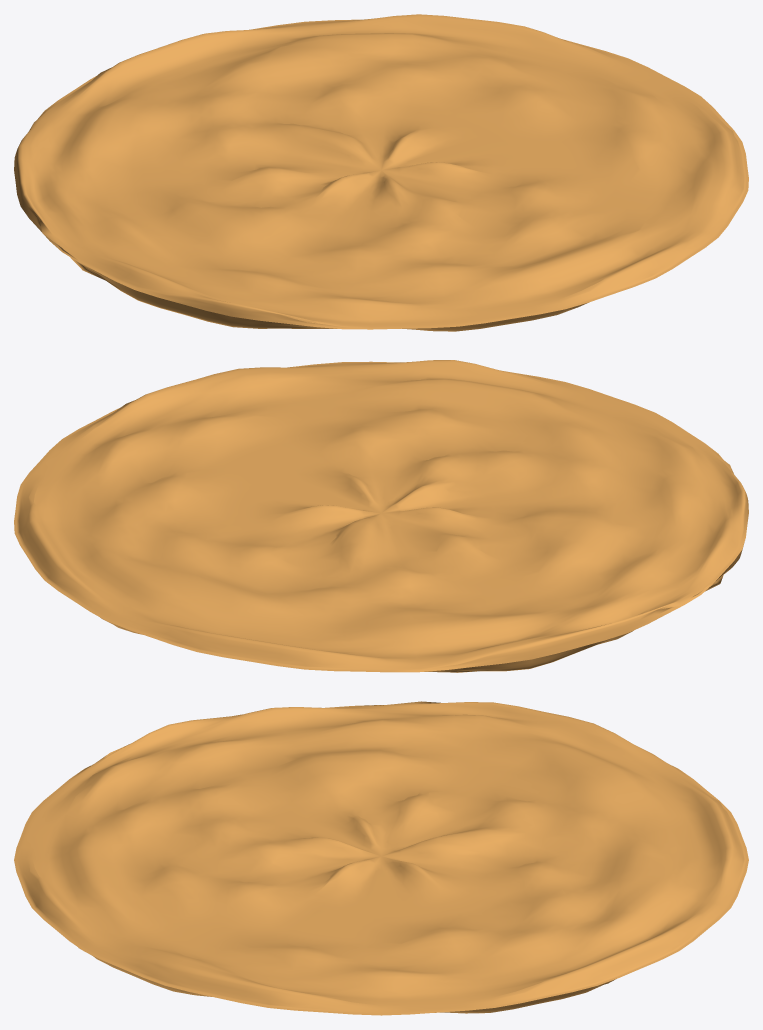
Rendered from Tostadas.fbx.
3 renders of one model, top to bottom at view 1: azimuth 30°, elevation 25°; view 2: azimuth 150°, elevation 25°; view 3: azimuth 270°, elevation 25°, orthographic.
Parts seen in each view (by area): view 1: pSphere3; view 2: pSphere3; view 3: pSphere3.
Boxes of the visible parts, x1,y1,x2,y2 form: pSphere3: (14,14,748,331); pSphere3: (14,360,748,672); pSphere3: (14,701,748,1015).
Bounding box in the file's own units: 1.99 × 0.096 × 1.99.
